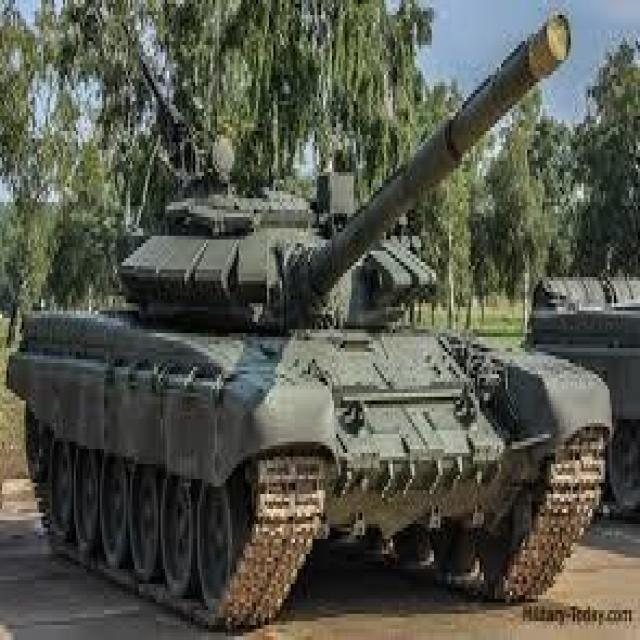MIL_MBT: (13, 32, 568, 608)
